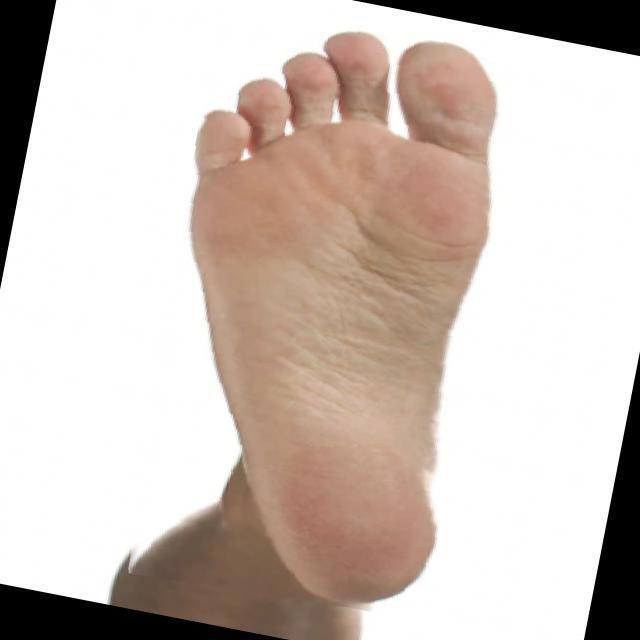No_Shoes: (174, 29, 503, 602)
